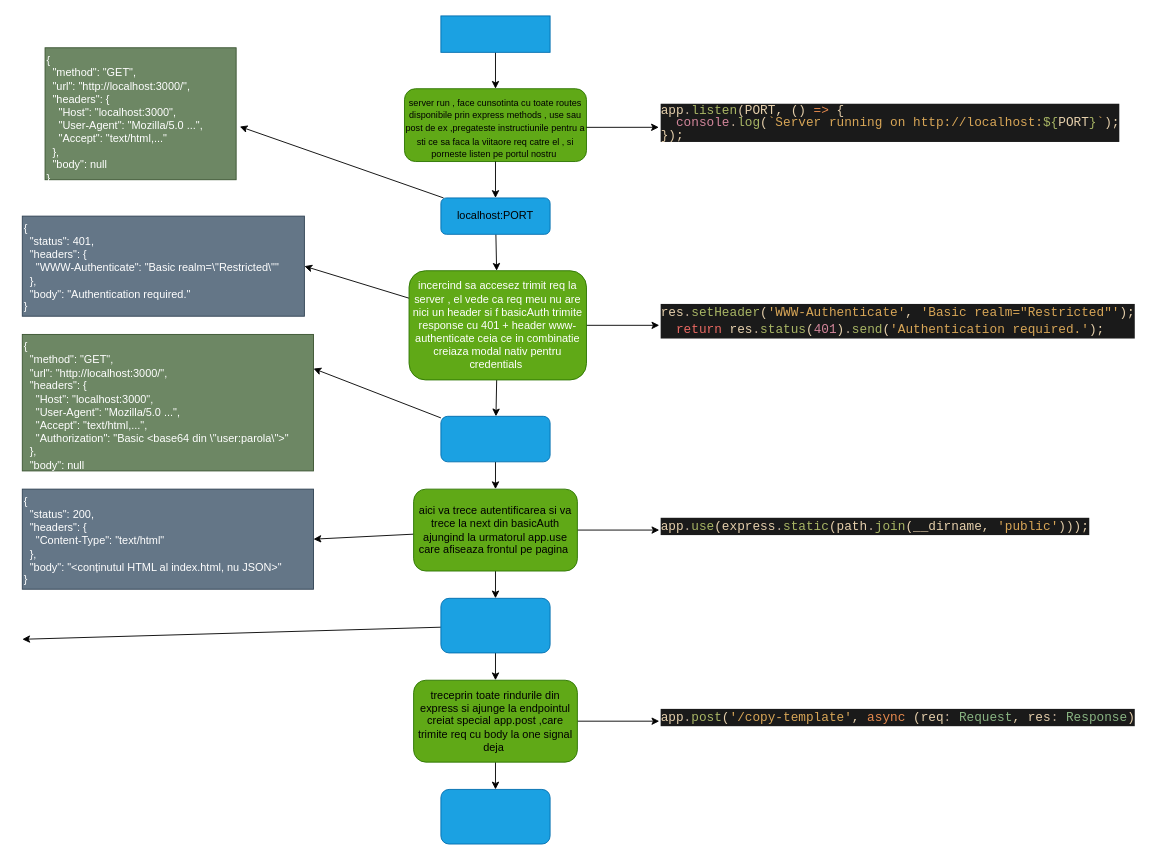
Some shapes in this 1151 by 860 pixel diagram are drawn without their labels. Here are the shapes that lost their labels. From the top down, the centre of each, then its label:
At point 495,33: "npm start".
At point 495,438: "inseram datele si retrimitem alt req cu date pentru auth".
At point 495,625: "inseram datele in formular si apasam send".
At point 495,816: "send the result to front succes or err".
